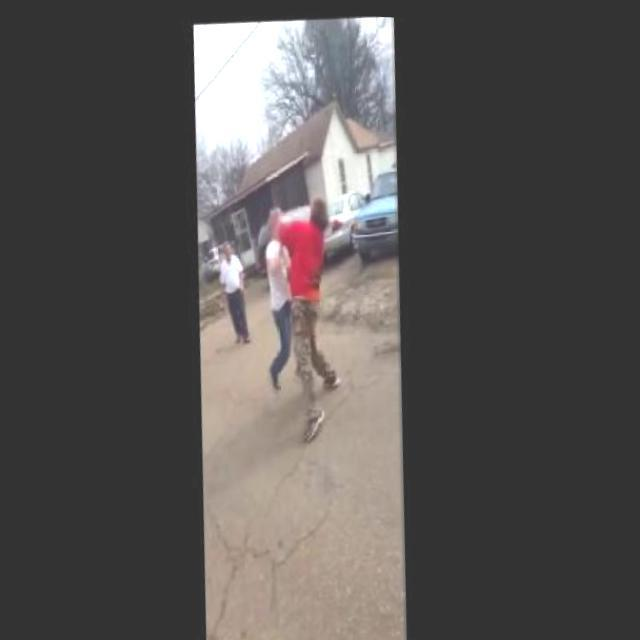fight: (253, 193, 359, 440)
